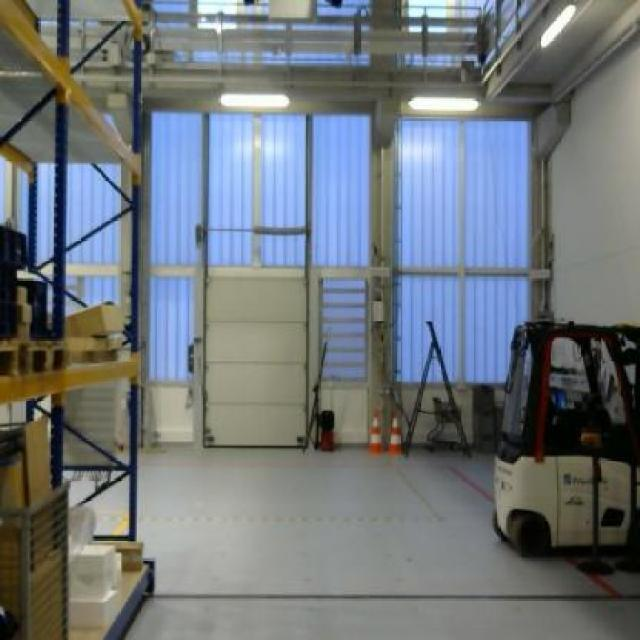box: (66, 300, 126, 336)
